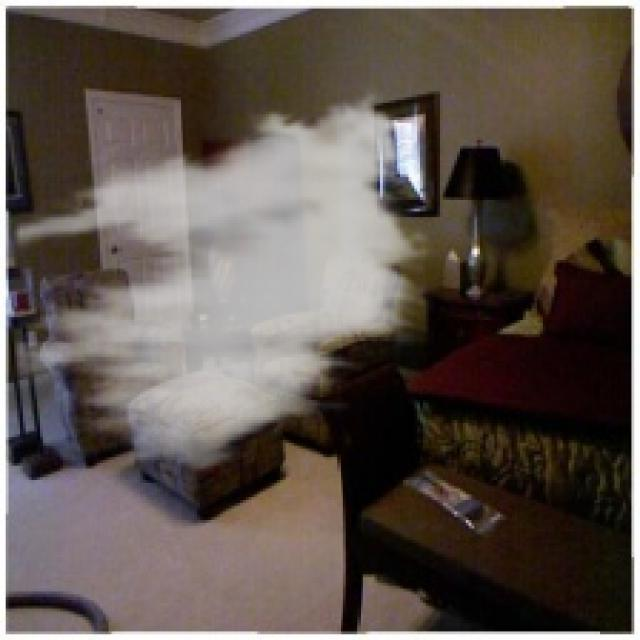Smoke: (14, 83, 434, 483)
